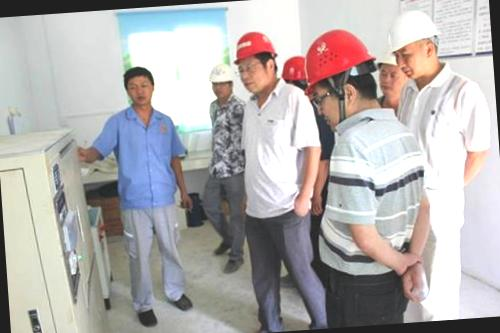no_helmet: (119, 63, 160, 111)
